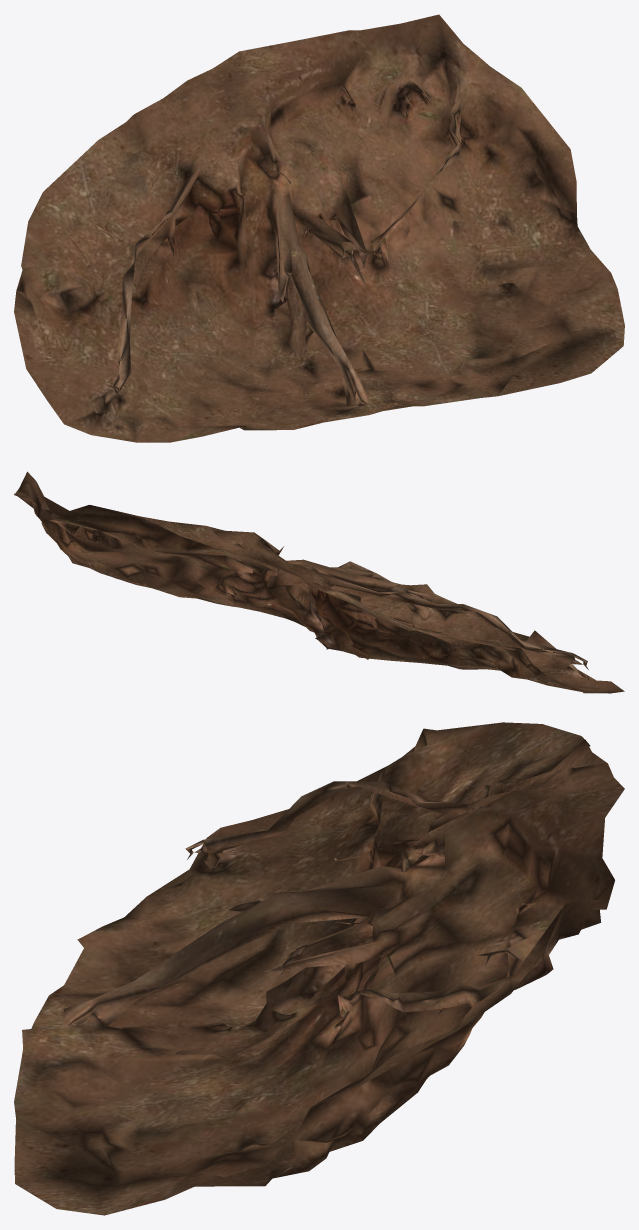
The model's file is root_cluster_01.glb.
3 renders of one model, top to bottom at view 1: azimuth 30°, elevation 25°; view 2: azimuth 150°, elevation 25°; view 3: azimuth 270°, elevation 25°, orthographic. The views are drawn at different scales.
Parts seen in each view (by area): view 1: root_cluster_01; view 2: root_cluster_01; view 3: root_cluster_01.
Part boxes in pixels (<box>): root_cluster_01: <box>14,14,624,442</box>; root_cluster_01: <box>14,471,624,693</box>; root_cluster_01: <box>14,722,624,1215</box>.
Size of the model in its own units: 4.11 by 1.5 by 2.68.
Materials: 1 (1 with a texture image).
